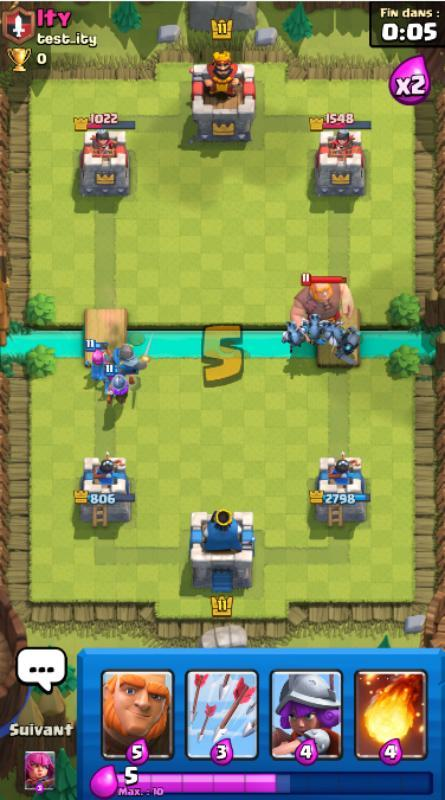archere: (85, 339, 112, 382), (100, 362, 119, 397)
chevalier: (108, 332, 155, 386)
gargouille: (317, 317, 347, 351), (299, 312, 326, 344), (282, 321, 306, 353)
geant: (289, 272, 356, 344)
mini_PEKKA: (334, 324, 365, 368)
mousquetaire: (101, 364, 140, 405)
